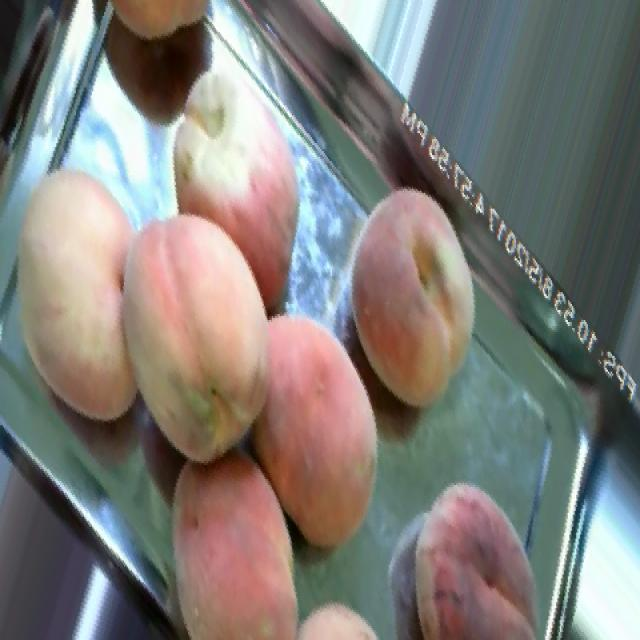Fruit: (92, 189, 295, 483), (0, 147, 172, 443), (142, 54, 326, 318), (232, 294, 396, 563), (327, 169, 501, 421), (139, 435, 320, 640), (392, 469, 563, 640), (85, 0, 238, 60), (259, 588, 412, 640)
